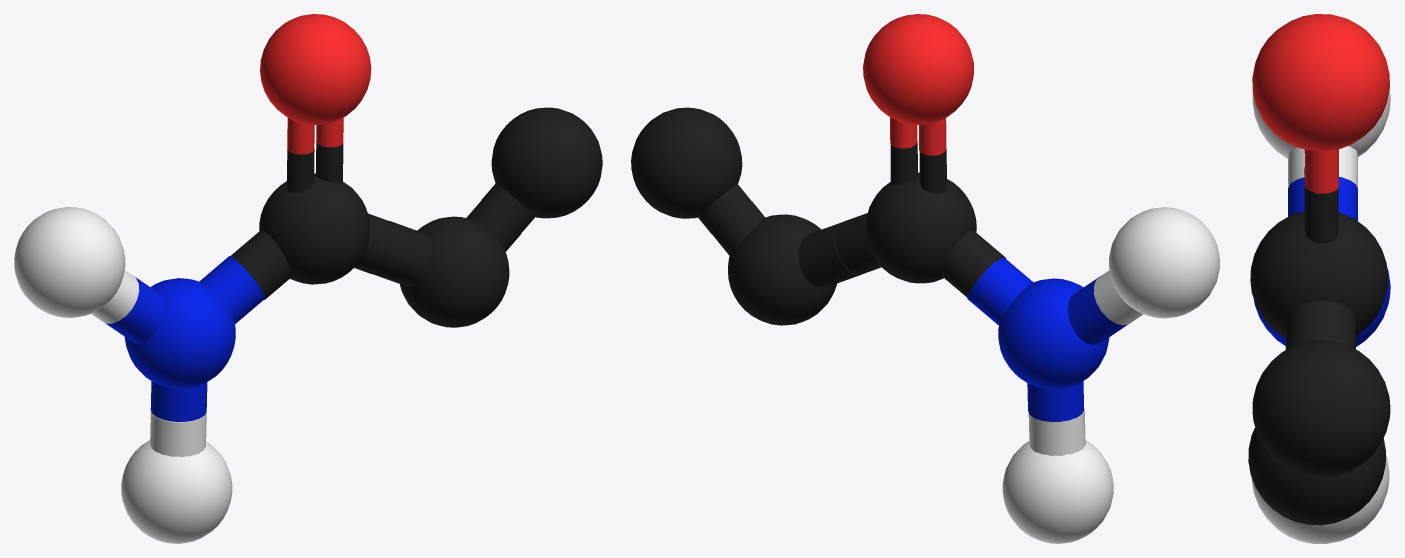
File: aminoacido.fbx
3 views of the same model, side by side, from view 1: azimuth 30°, elevation 25°; view 2: azimuth 150°, elevation 25°; view 3: azimuth 270°, elevation 25° (orthographic). The views are drawn at different scales.
Visible parts, largest first — view 1: Sphere072, Sphere077, Sphere074, Sphere076, Sphere071, Sphere073, Sphere075, Cylinder166, Cylinder167, Cylinder166.003, Cylinder164, Cylinder166.004 (+8 smaller); view 2: Sphere077, Sphere072, Sphere074, Sphere076, Sphere071, Sphere075, Sphere073, Cylinder166, Cylinder164, Cylinder167, Cylinder166.003, Cylinder166.001 (+9 smaller); view 3: Sphere074, Sphere072, Sphere071, Sphere073, Sphere076, Cylinder165, Cylinder161, Cylinder162, Sphere077, Cylinder166.001, Cylinder166.002, Sphere075.
Part boxes in pixels (x1,y1,x2,y2): Sphere072: [260, 14, 371, 124]; Sphere077: [14, 207, 125, 317]; Sphere074: [491, 107, 602, 218]; Sphere076: [121, 440, 232, 543]; Sphere071: [259, 173, 369, 284]; Sphere073: [400, 216, 509, 327]; Sphere075: [124, 278, 235, 388]; Cylinder166: [199, 256, 264, 323]; Cylinder167: [231, 230, 291, 299]; Cylinder166.003: [150, 410, 206, 456]; Cylinder164: [373, 221, 431, 286]; Cylinder166.004: [150, 381, 207, 421]; Sphere077: [1109, 207, 1219, 318]; Sphere072: [863, 14, 973, 124]; Sphere074: [631, 107, 742, 218]; Sphere076: [1002, 440, 1113, 543]; Sphere071: [865, 172, 976, 283]; Sphere075: [998, 278, 1109, 389]; Sphere073: [728, 214, 837, 325]; Cylinder166: [967, 257, 1033, 325]; Cylinder164: [798, 222, 861, 287]; Cylinder167: [941, 230, 1005, 297]; Cylinder166.003: [1028, 409, 1085, 455]; Cylinder166.001: [1067, 276, 1127, 345]; Sphere074: [1252, 340, 1390, 477]; Sphere072: [1252, 14, 1389, 150]; Sphere071: [1250, 211, 1387, 337]; Sphere073: [1248, 427, 1385, 525]; Sphere076: [1251, 455, 1389, 543]; Cylinder165: [1286, 300, 1355, 349]; Cylinder161: [1304, 185, 1338, 243]; Cylinder162: [1304, 149, 1338, 193]; Sphere077: [1252, 90, 1390, 158]; Cylinder166.001: [1288, 177, 1357, 220]; Cylinder166.002: [1288, 146, 1357, 188]; Sphere075: [1254, 267, 1390, 346].
Size of the model in its own units: 74.24 by 60.04 by 12.85.
